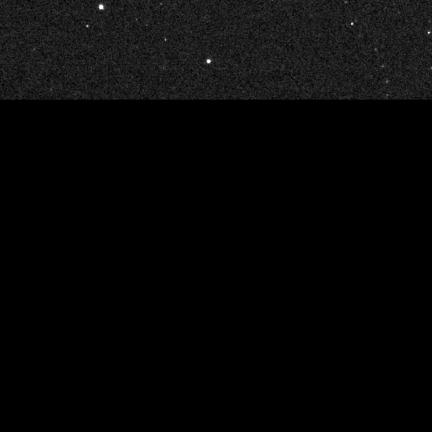blob: (99, 5, 104, 10), (351, 22, 354, 26), (207, 60, 211, 63)
